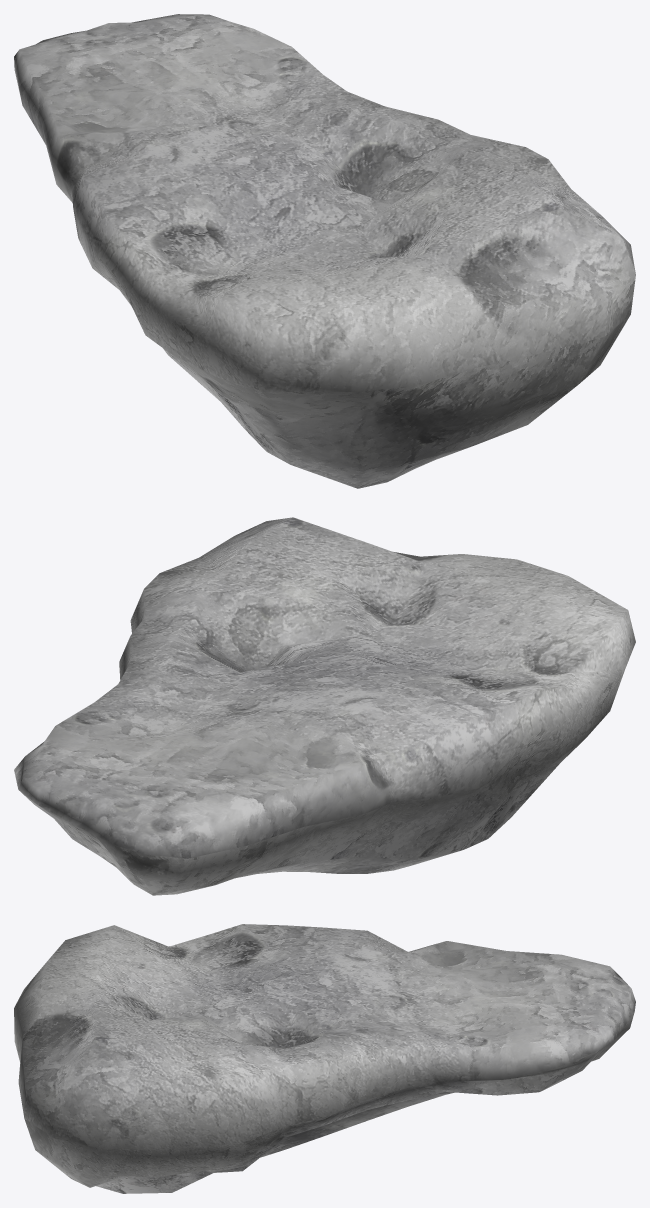
Rendered from RockP.fbx.
3 renders of one model, top to bottom at view 1: azimuth 30°, elevation 25°; view 2: azimuth 150°, elevation 25°; view 3: azimuth 270°, elevation 25°, orthographic. The views are drawn at different scales.
Parts seen in each view (by area): view 1: pCube1; view 2: pCube1; view 3: pCube1.
Boxes of the visible parts, x1,y1,x2,y2 form: pCube1: (14, 14, 635, 488); pCube1: (14, 517, 635, 895); pCube1: (14, 924, 635, 1193).
Bounding box in the file's own units: 574 × 324 × 891.
1 material, 1 textured.
